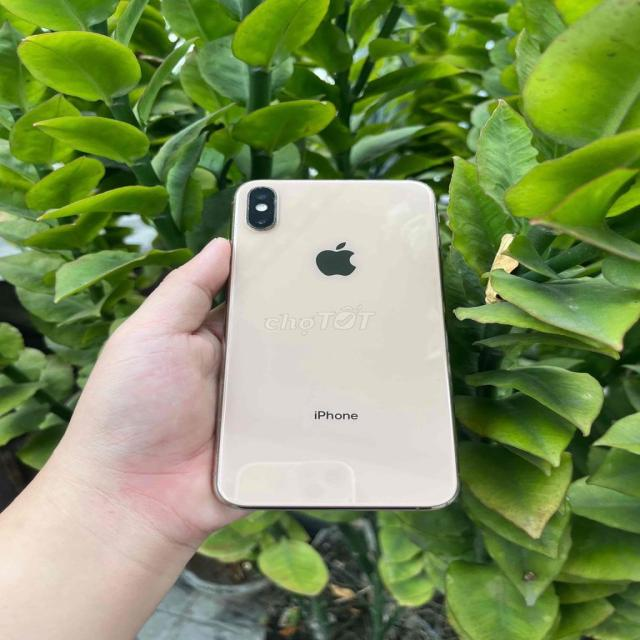gen_x_xs: (217, 180, 458, 509)
